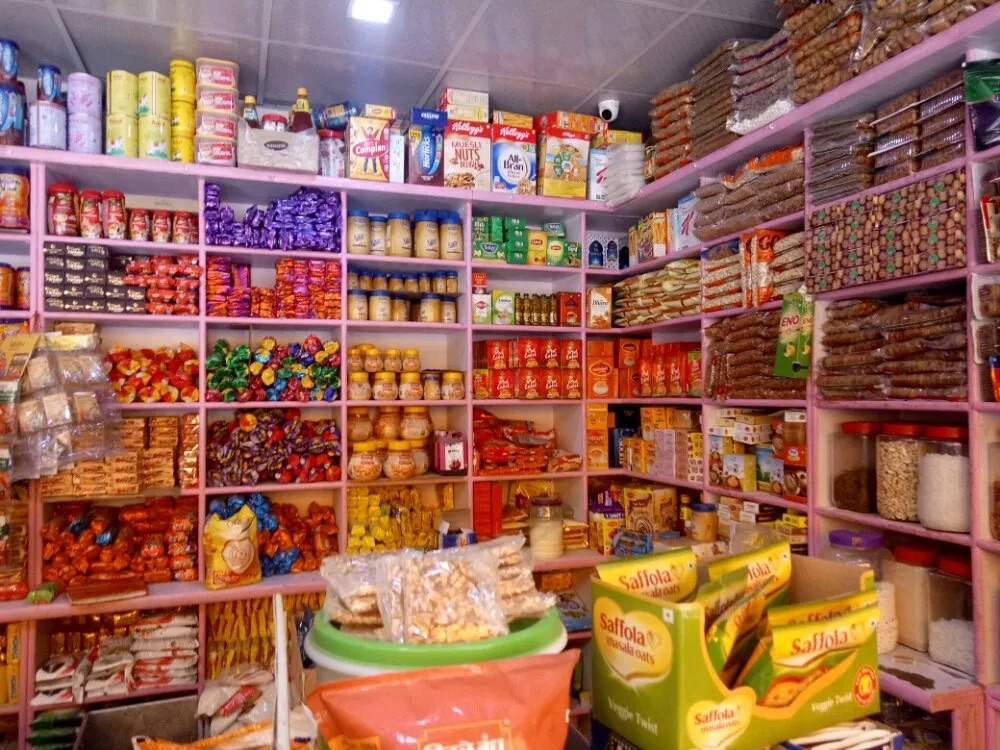saffola: (591, 546, 797, 750)
